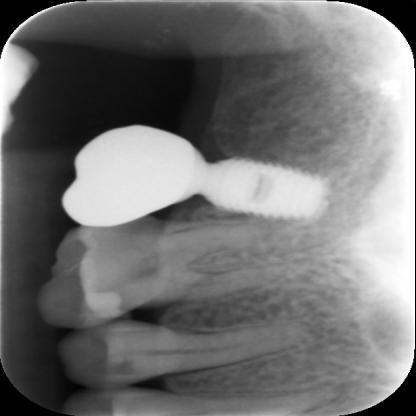Bicon: (204, 152, 340, 222)
